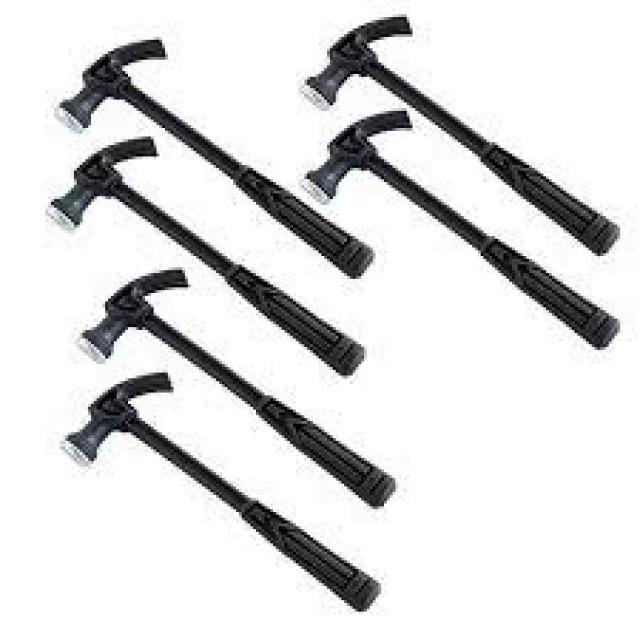hammer: (49, 351, 392, 616), (37, 17, 376, 279), (67, 256, 411, 512), (37, 128, 376, 387), (302, 105, 624, 370), (300, 10, 622, 266)
